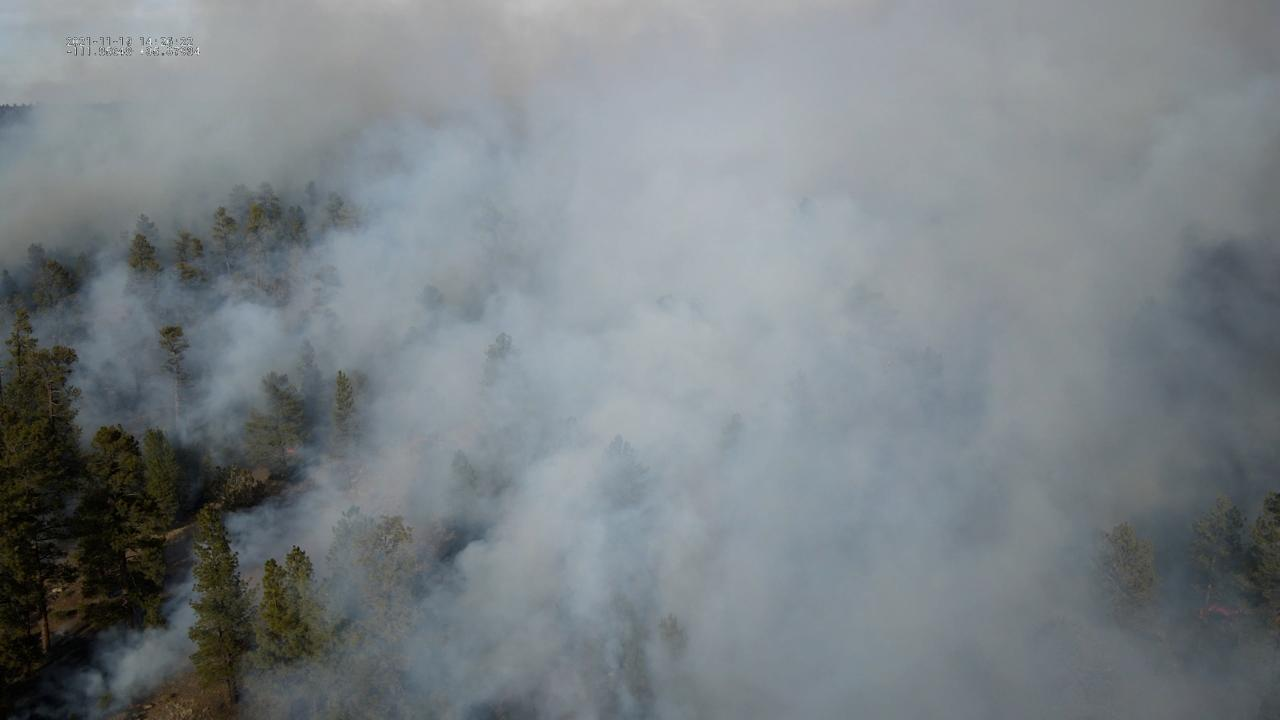fire: (1197, 602, 1241, 620), (287, 448, 296, 454)
smoke: (0, 0, 1280, 720)
